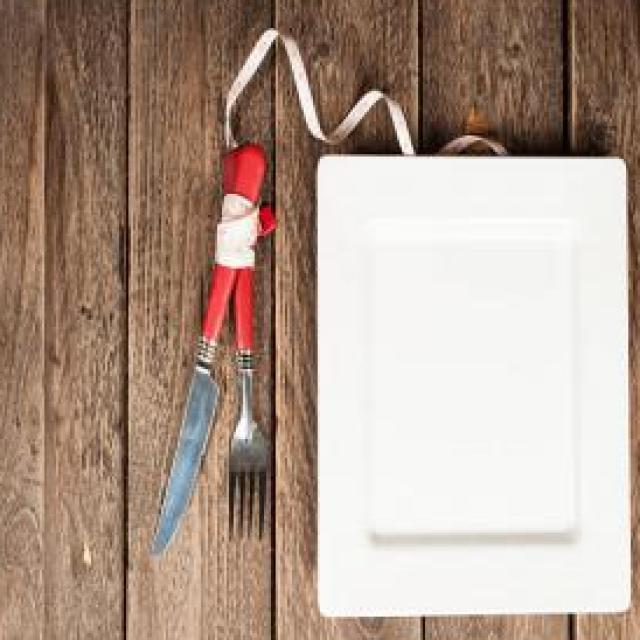knife: (148, 147, 264, 558)
